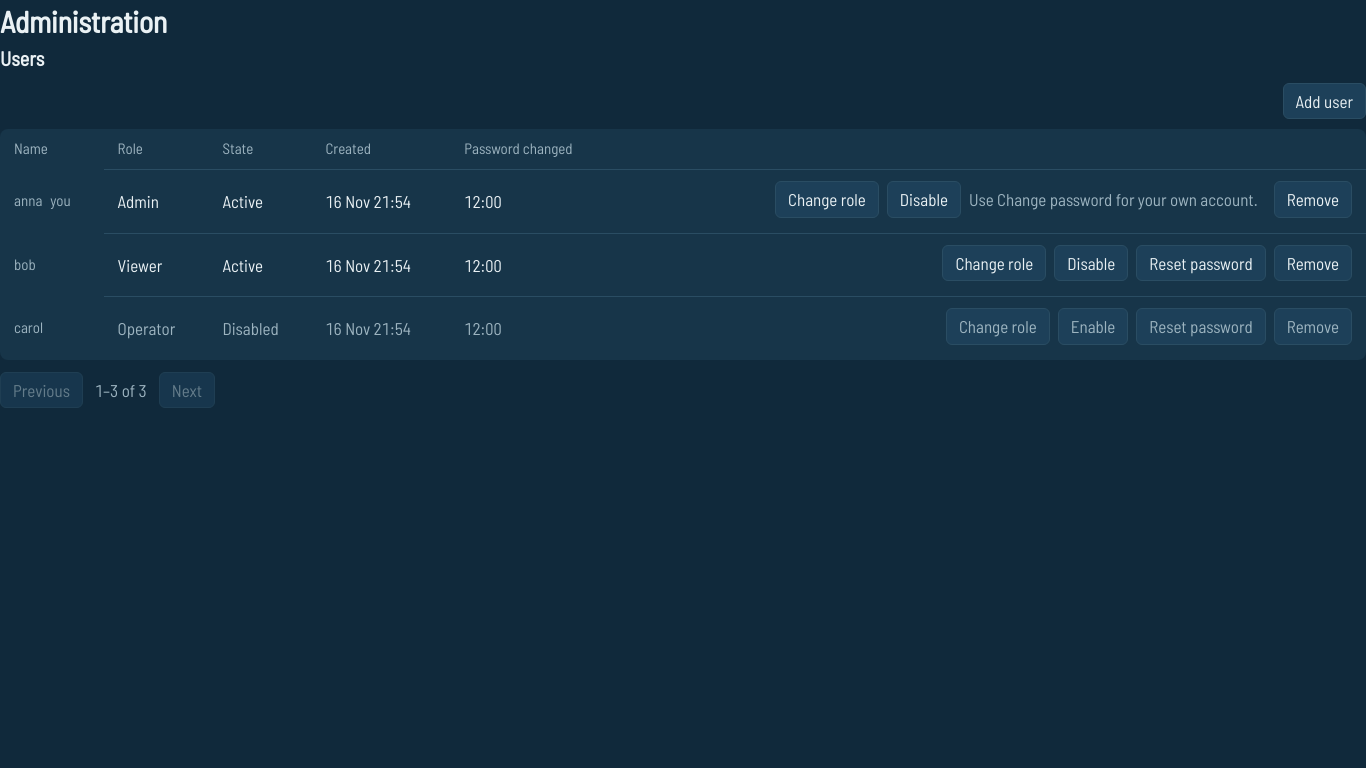
AdministrationPage › asks before disabling and sends PATCH disabled
The image size is (1366, 768).
Click the button with aria-label "Disable bob". click: click(1091, 263)
box: [1054, 244, 1128, 281]
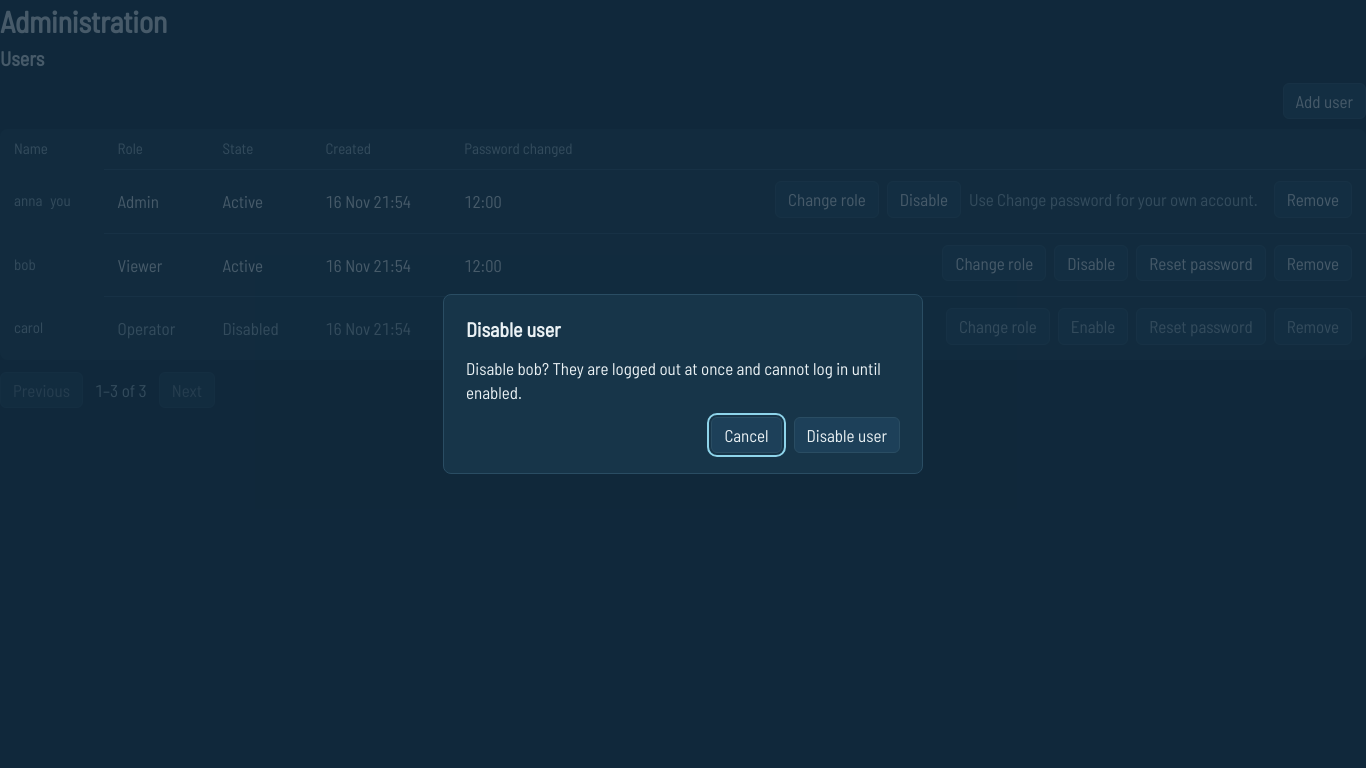
Expected: the text "Disable bob? They are logged out at once and cannot log in until enabled." is shown, [466, 356, 900, 405]
Click the button "Disable user". click: click(847, 435)
box: [794, 417, 900, 453]
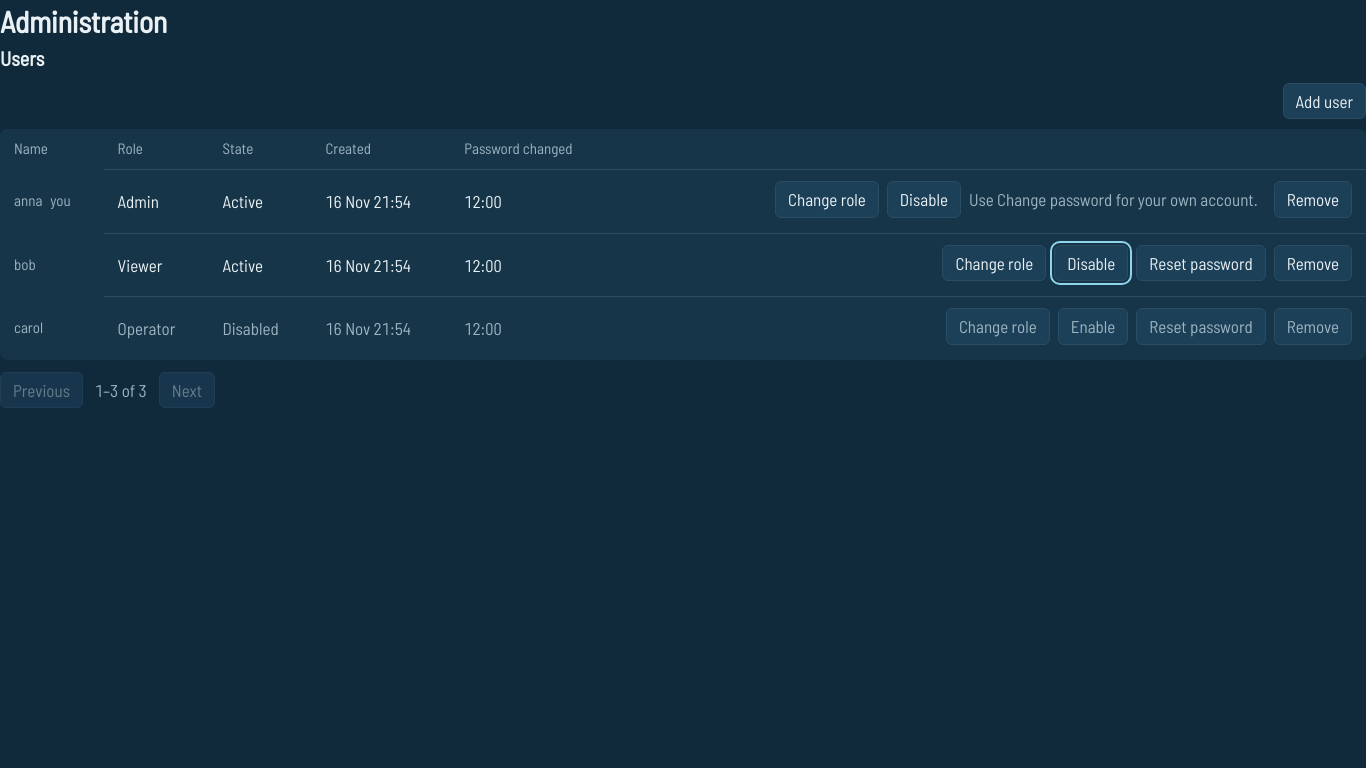
Expected: the dialog is gone
